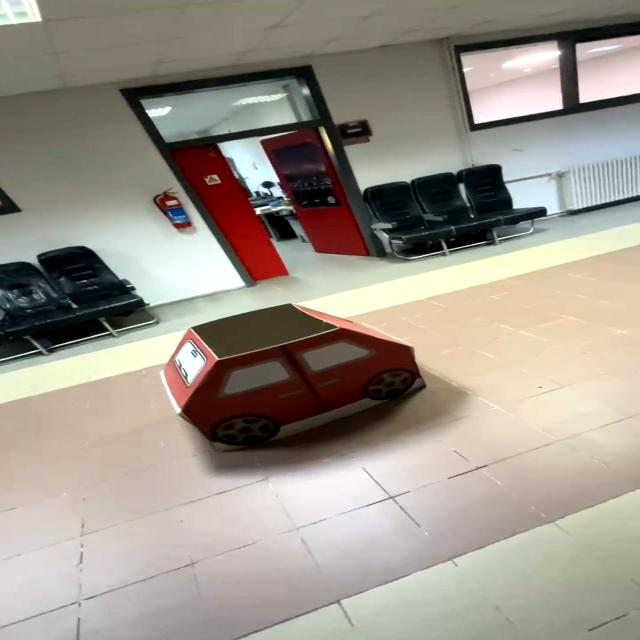red_car: (155, 287, 445, 454)
